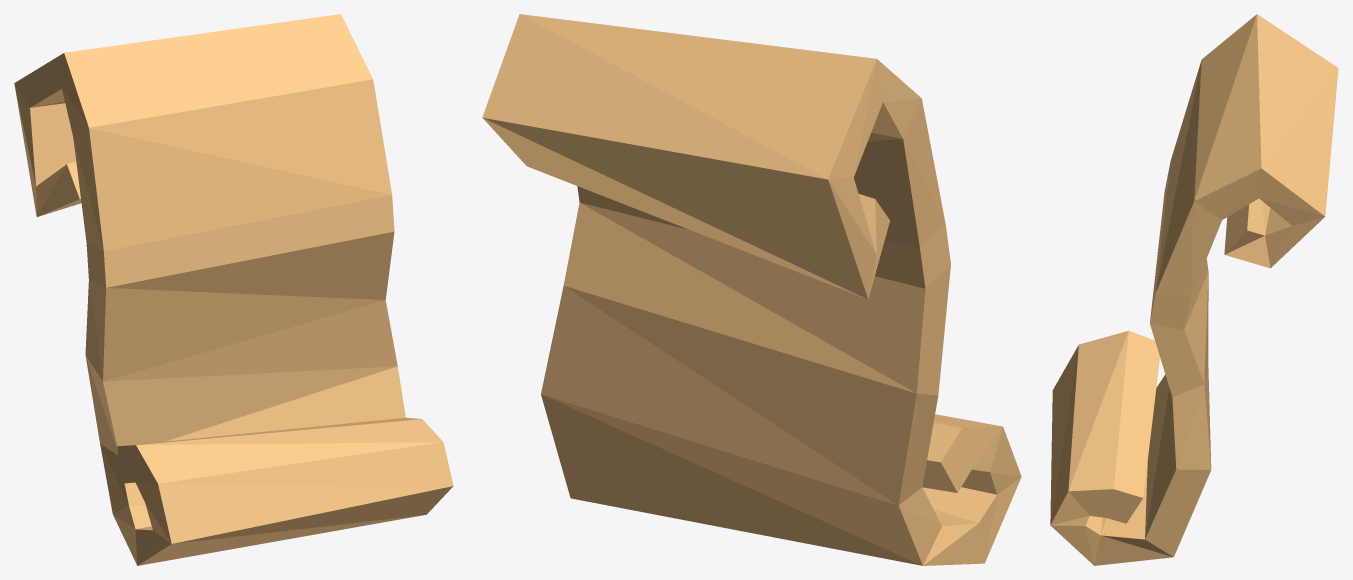
File: scroll by Faith Barnett - c3kQWor34kn.glb
The picture shows the model from 3 angles, left to right: view 1: azimuth 30°, elevation 25°; view 2: azimuth 150°, elevation 25°; view 3: azimuth 270°, elevation 25°; orthographic projection. The views are drawn at different scales.
Parts seen in each view (by area): view 1: group1349871061; view 2: group1349871061; view 3: group1349871061.
Part boxes in pixels (x1,y1,x2,y2): group1349871061: (14,14,453,565); group1349871061: (482,14,1021,565); group1349871061: (1050,14,1338,565).
Bounding box in the file's own units: 0.3692 × 0.5395 × 0.3289.
